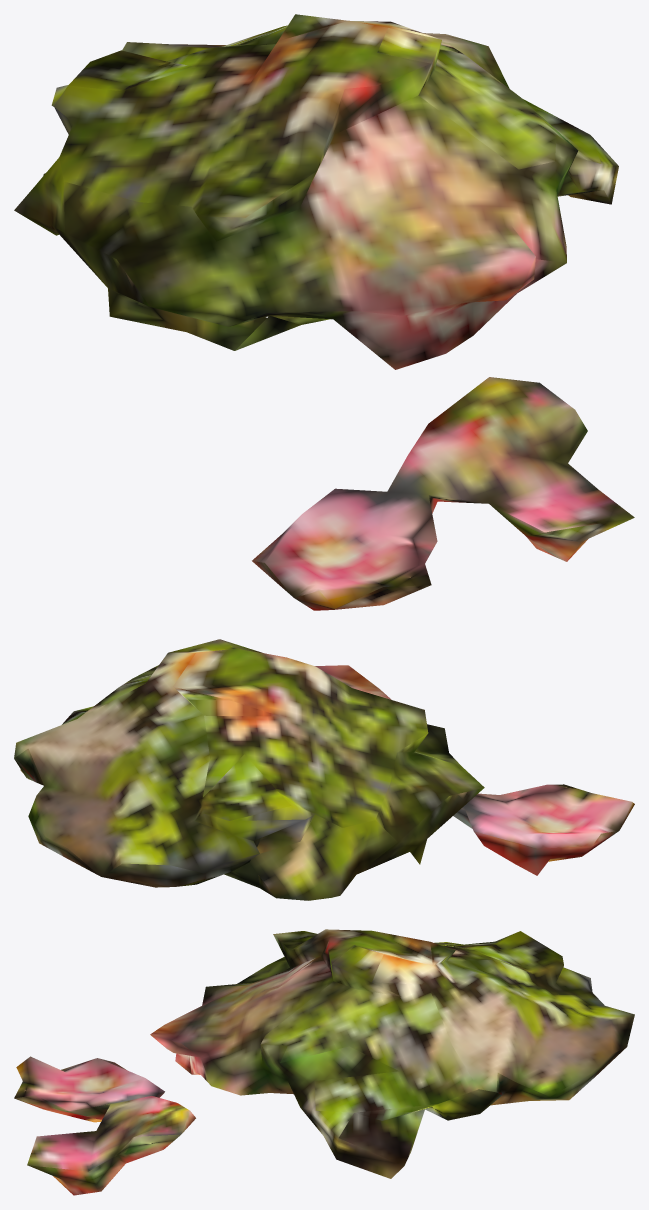
The model's file is SpringDecor_BossRoom_SmallFlowers.fbx.
The picture shows the model from 3 angles, top to bottom: view 1: azimuth 30°, elevation 25°; view 2: azimuth 150°, elevation 25°; view 3: azimuth 270°, elevation 25°; orthographic projection. The views are drawn at different scales.
Parts seen in each view (by area): view 1: SpringDecor_BossRoom_SmallFlowers_Mesh; view 2: SpringDecor_BossRoom_SmallFlowers_Mesh; view 3: SpringDecor_BossRoom_SmallFlowers_Mesh.
Boxes of the visible parts, <box> form: SpringDecor_BossRoom_SmallFlowers_Mesh: <box>14,14,634,610</box>; SpringDecor_BossRoom_SmallFlowers_Mesh: <box>14,639,634,900</box>; SpringDecor_BossRoom_SmallFlowers_Mesh: <box>14,929,634,1195</box>.
Bounding box in the file's own units: 4.27 × 2.72 × 6.
1 material, 1 textured.
